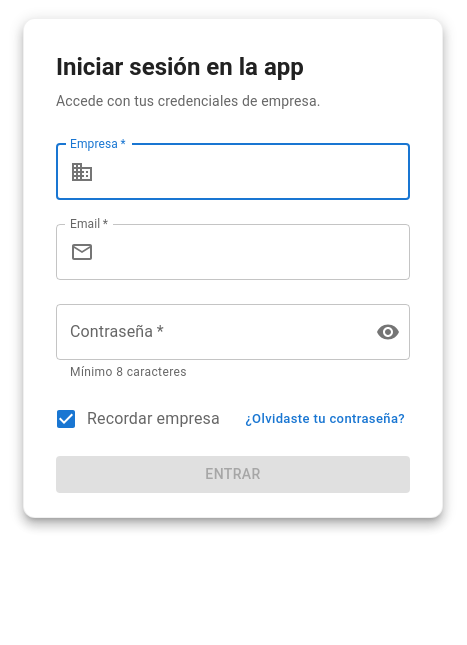
Scenario: LoginForm Component › Form Submission - Error Handling › should display error message when credentials are incorrect (401)
In the field labelled "Empresa *": (256, 172) [102, 144, 410, 200], type "test-company"
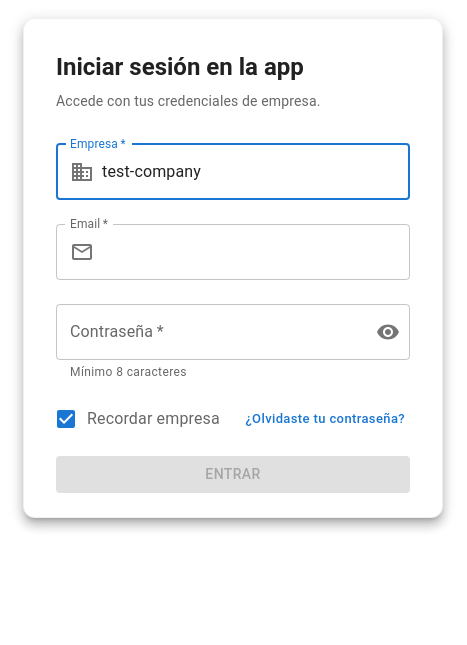
In the field labelled "Email *": (256, 252) [102, 224, 410, 280], type "wrong@example.com"
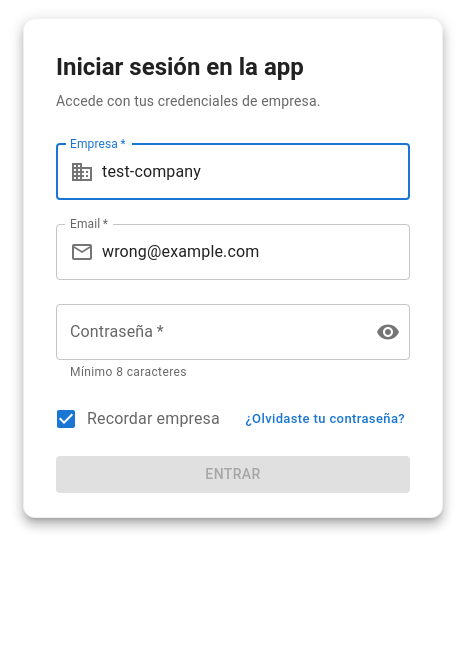
In the password field labelled "Contraseña *": (208, 332) [56, 304, 360, 360], type "wrongpass"
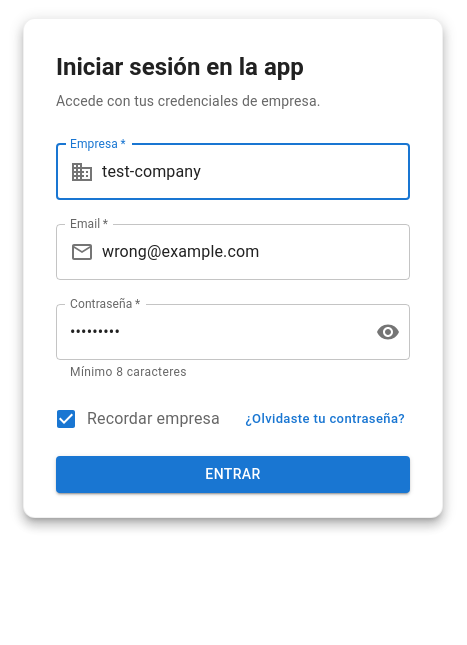
Click the button "Entrar": (233, 475) [56, 456, 410, 493]
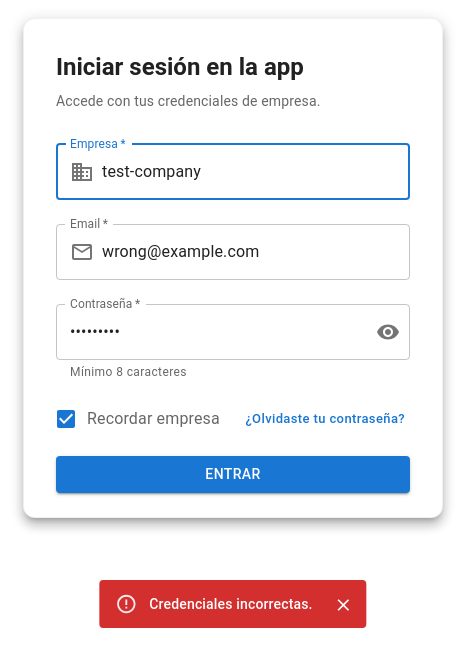
Result: the text "Credenciales incorrectas." is shown at [149, 596, 313, 612]
